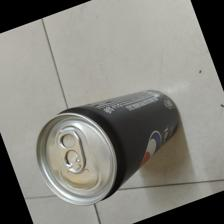Pepsi: (34, 87, 183, 211)
